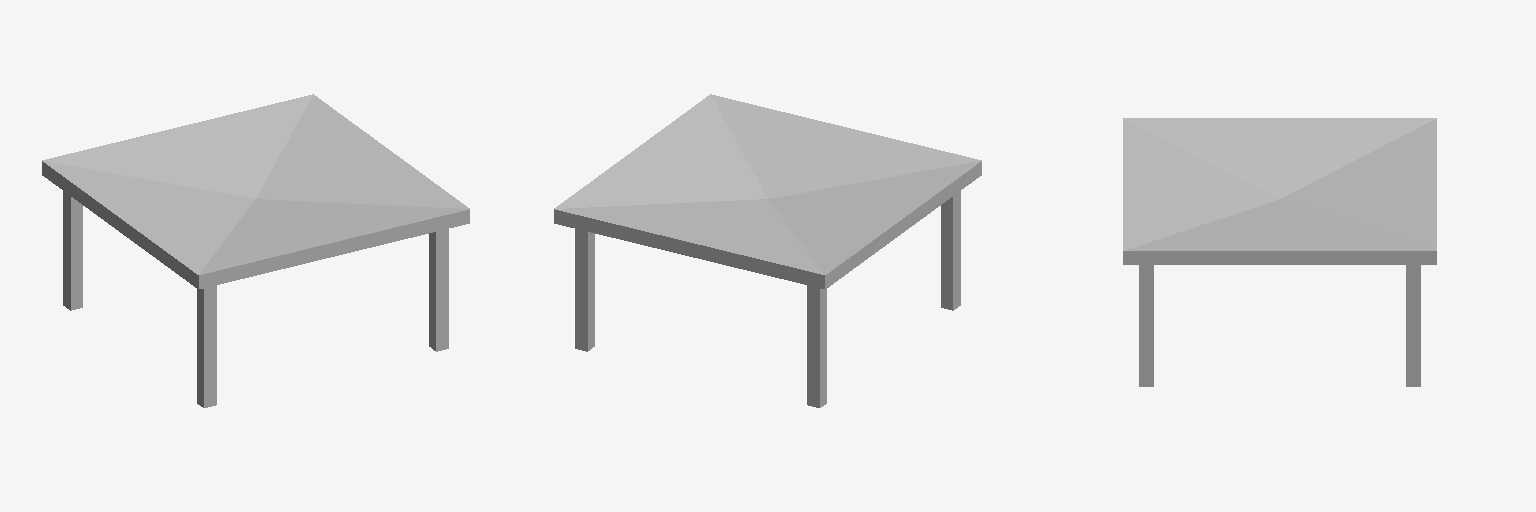
File: Table.obj
3 views of the same model, side by side, from view 1: azimuth 30°, elevation 25°; view 2: azimuth 150°, elevation 25°; view 3: azimuth 270°, elevation 25° (orthographic).
Visible parts, largest first — view 1: Plane; view 2: Plane; view 3: Plane.
Part boxes in pixels (x1,y1,x2,y2): Plane: (42,94,469,407); Plane: (554,94,981,407); Plane: (1123,118,1436,386).
Bounding box in the file's own units: 4 × 2 × 4.